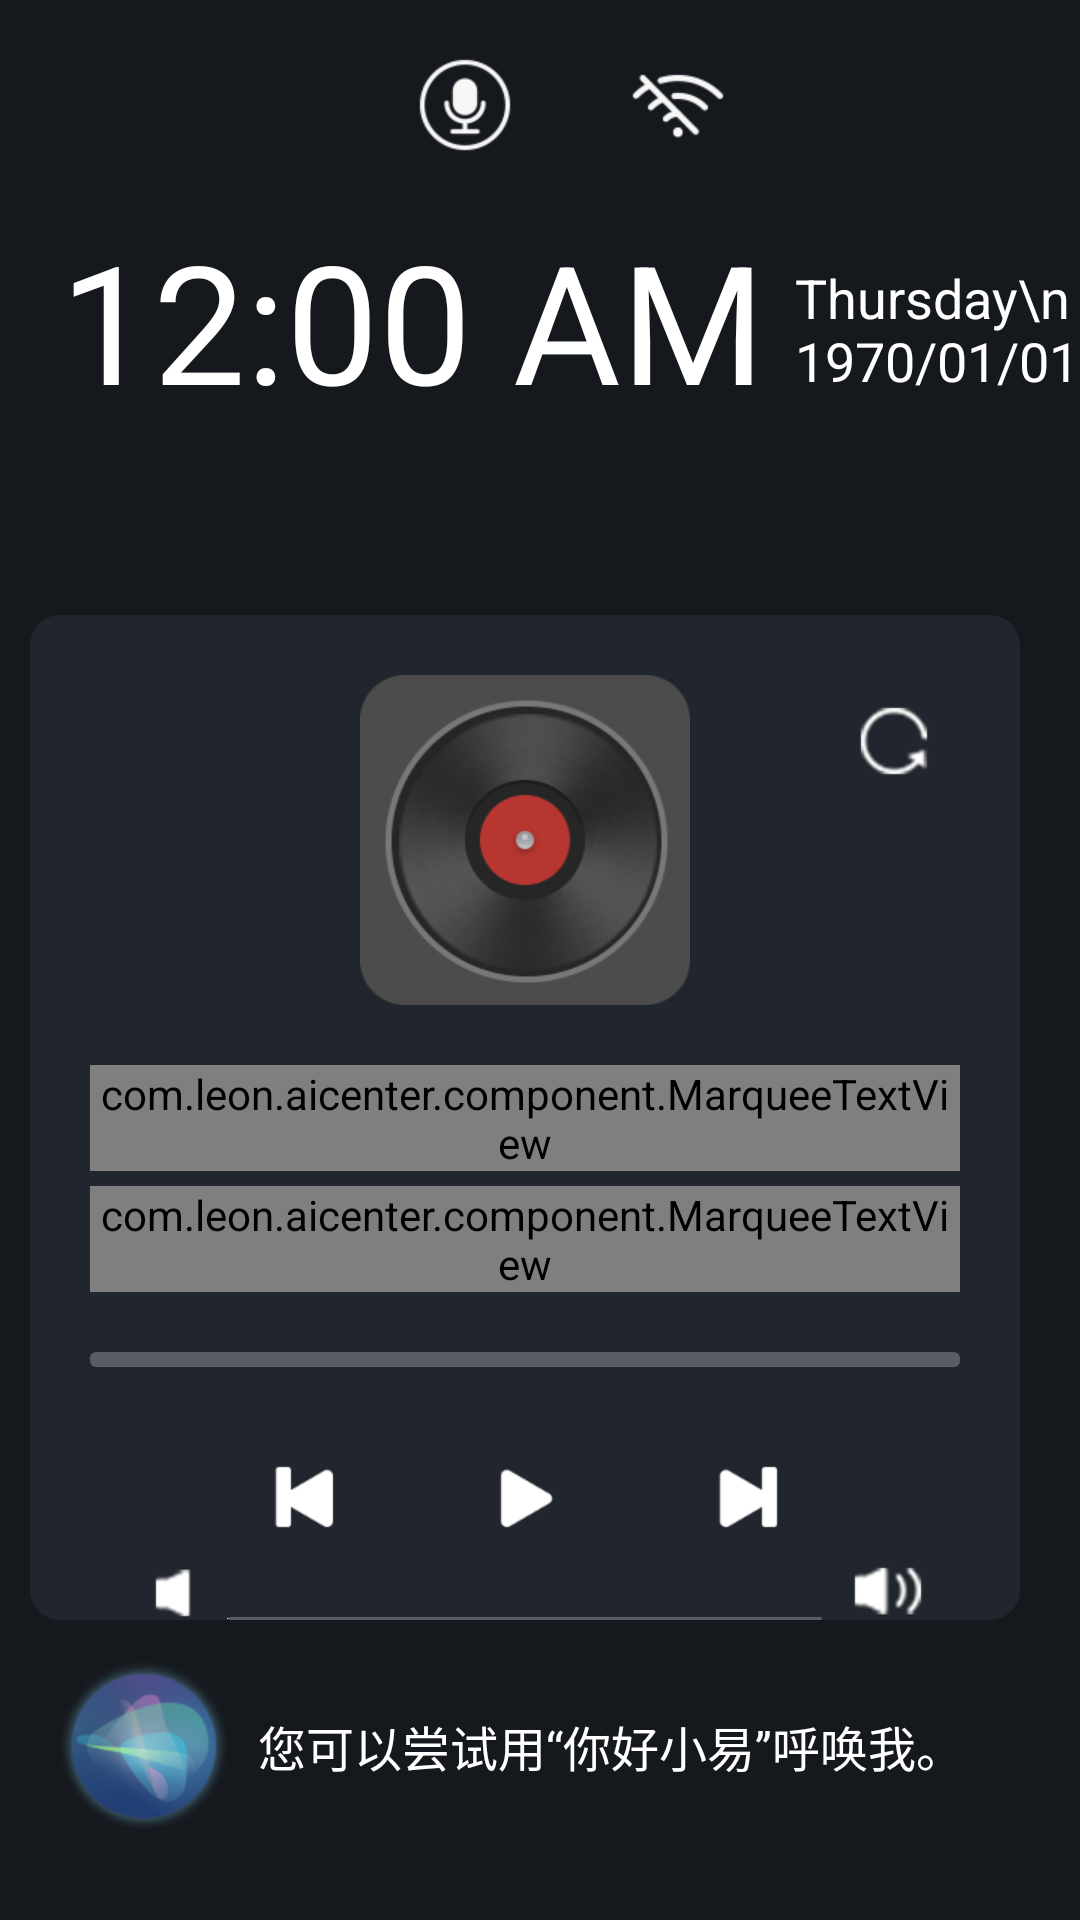

Point at icon controls on the screen. Image size 1080x1920, points as (x=x, y=y).
decrease style: (x=173, y=1593)
increase style: (x=888, y=1591)
mode loop: (x=894, y=741)
next style: (x=748, y=1497)
play style: (x=526, y=1498)
prev style: (x=304, y=1497)
wifi: (x=678, y=106)
语音: (x=465, y=105)
